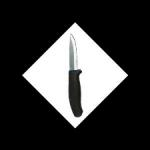Pisau: (69, 32, 84, 118)
